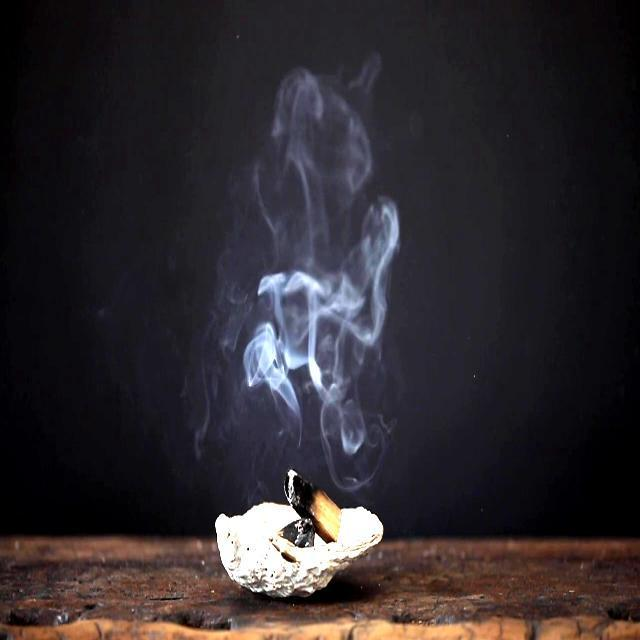Smoke: (254, 60, 411, 472)
